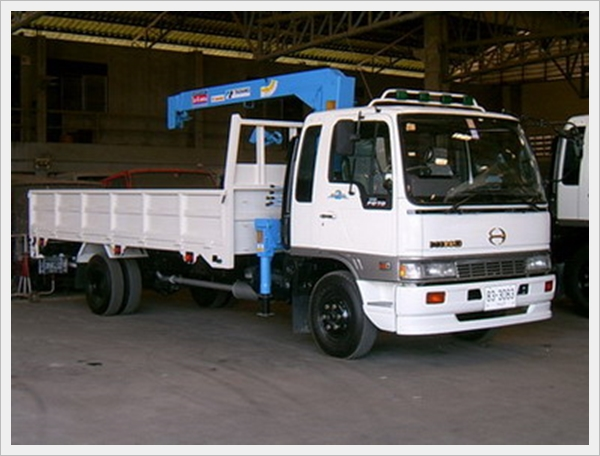truck: (283, 93, 558, 359)
